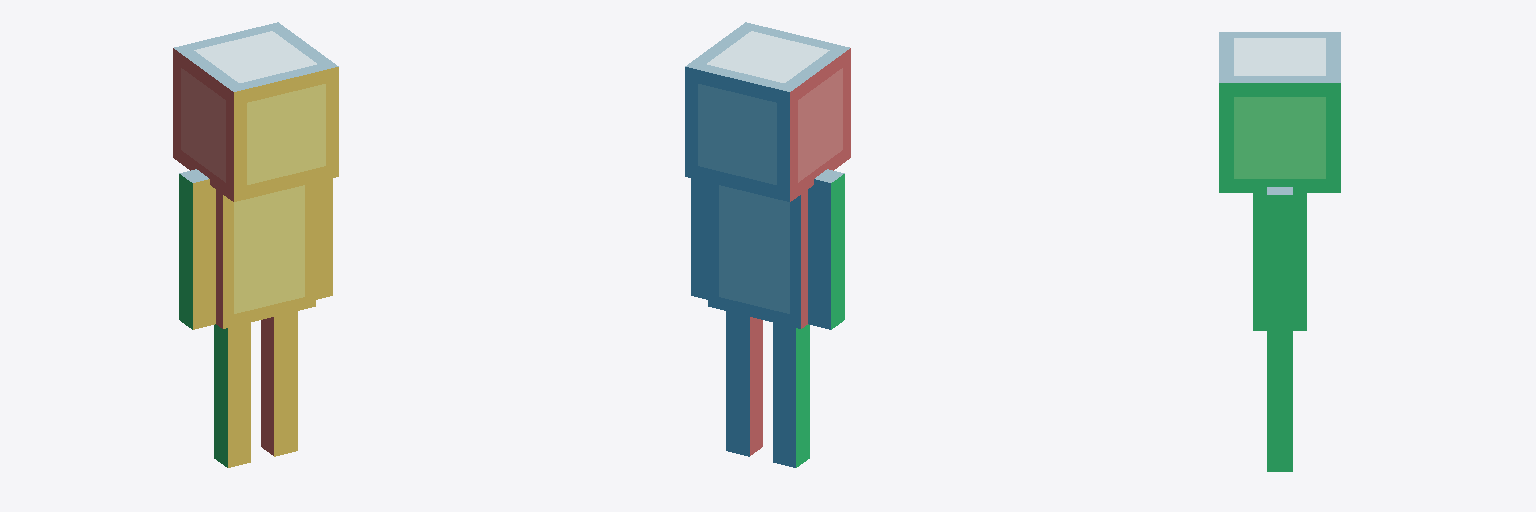
3 views of the same model, side by side, from view 1: azimuth 30°, elevation 25°; view 2: azimuth 150°, elevation 25°; view 3: azimuth 270°, elevation 25° (orthographic).
Parts seen in each view (by area): view 1: Head Layer, Body, LeftArm, LeftLeg, RightLeg, RightArm; view 2: Head Layer, Body, LeftArm, LeftLeg, RightLeg, RightArm; view 3: Head Layer, RightArm, Body, RightLeg.
Boxes of the visible parts, box(x1,y1,x2,y2) form: Head Layer: box(173, 22, 338, 201); Body: box(216, 182, 315, 328); LeftArm: box(179, 169, 215, 329); LeftLeg: box(214, 322, 250, 467); RightLeg: box(261, 311, 297, 456); RightArm: box(316, 178, 332, 299); Head Layer: box(685, 22, 850, 201); Body: box(708, 182, 807, 328); LeftArm: box(808, 169, 844, 329); LeftLeg: box(773, 322, 809, 467); RightLeg: box(726, 311, 762, 456); RightArm: box(691, 178, 707, 299); Head Layer: box(1219, 32, 1340, 192); RightArm: box(1267, 187, 1292, 341); Body: box(1253, 193, 1306, 330); RightLeg: box(1267, 342, 1292, 471).
Size of the model in its own units: 0.75 by 2.03 by 0.5625.
1 materials, 1 textured.